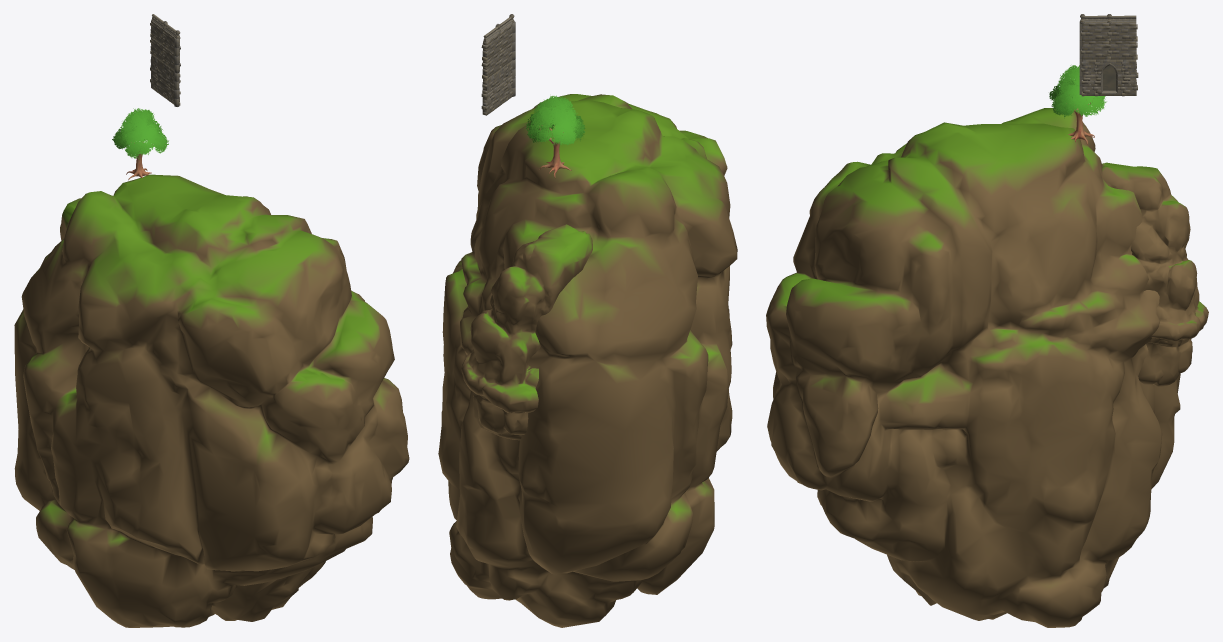
The model's file is cell_x-4_z1_render.gltf.
The picture shows the model from 3 angles, left to right: view 1: azimuth 30°, elevation 25°; view 2: azimuth 150°, elevation 25°; view 3: azimuth 270°, elevation 25°; orthographic projection. The views are drawn at different scales.
Visible parts, largest first — view 1: SM_ENV_cliff_castle_01_LOD0.026, SM_ENV_tree_castle_01_LOD0.028; view 2: SM_ENV_cliff_castle_01_LOD0.026, SM_ENV_cliff_castle_02_LOD0.039, SM_ENV_tree_castle_01_LOD0.028, SM_MOD_wall_big_niche_single_castle_LOD0.016, SM_MOD_wall_big_half_castle_LOD0.020; view 3: SM_ENV_cliff_castle_01_LOD0.026, SM_ENV_cliff_castle_02_LOD0.039, SM_ENV_tree_castle_01_LOD0.028, SM_MOD_wall_big_niche_single_castle_LOD0.016.
Part boxes in pixels (x1,y1,x2,y2): SM_ENV_cliff_castle_01_LOD0.026: [14, 174, 409, 627]; SM_ENV_tree_castle_01_LOD0.028: [112, 108, 168, 180]; SM_ENV_cliff_castle_01_LOD0.026: [438, 94, 737, 627]; SM_ENV_cliff_castle_02_LOD0.039: [461, 224, 592, 440]; SM_ENV_tree_castle_01_LOD0.028: [526, 95, 585, 178]; SM_MOD_wall_big_niche_single_castle_LOD0.016: [492, 64, 507, 109]; SM_MOD_wall_big_half_castle_LOD0.020: [481, 74, 494, 115]; SM_ENV_cliff_castle_01_LOD0.026: [766, 108, 1180, 627]; SM_ENV_cliff_castle_02_LOD0.039: [1102, 162, 1208, 386]; SM_ENV_tree_castle_01_LOD0.028: [1049, 65, 1106, 144]; SM_MOD_wall_big_niche_single_castle_LOD0.016: [1094, 59, 1125, 96].
Size of the model in its own units: 52.28 by 100 by 66.16.
Materials: 6 (5 with a texture image).
